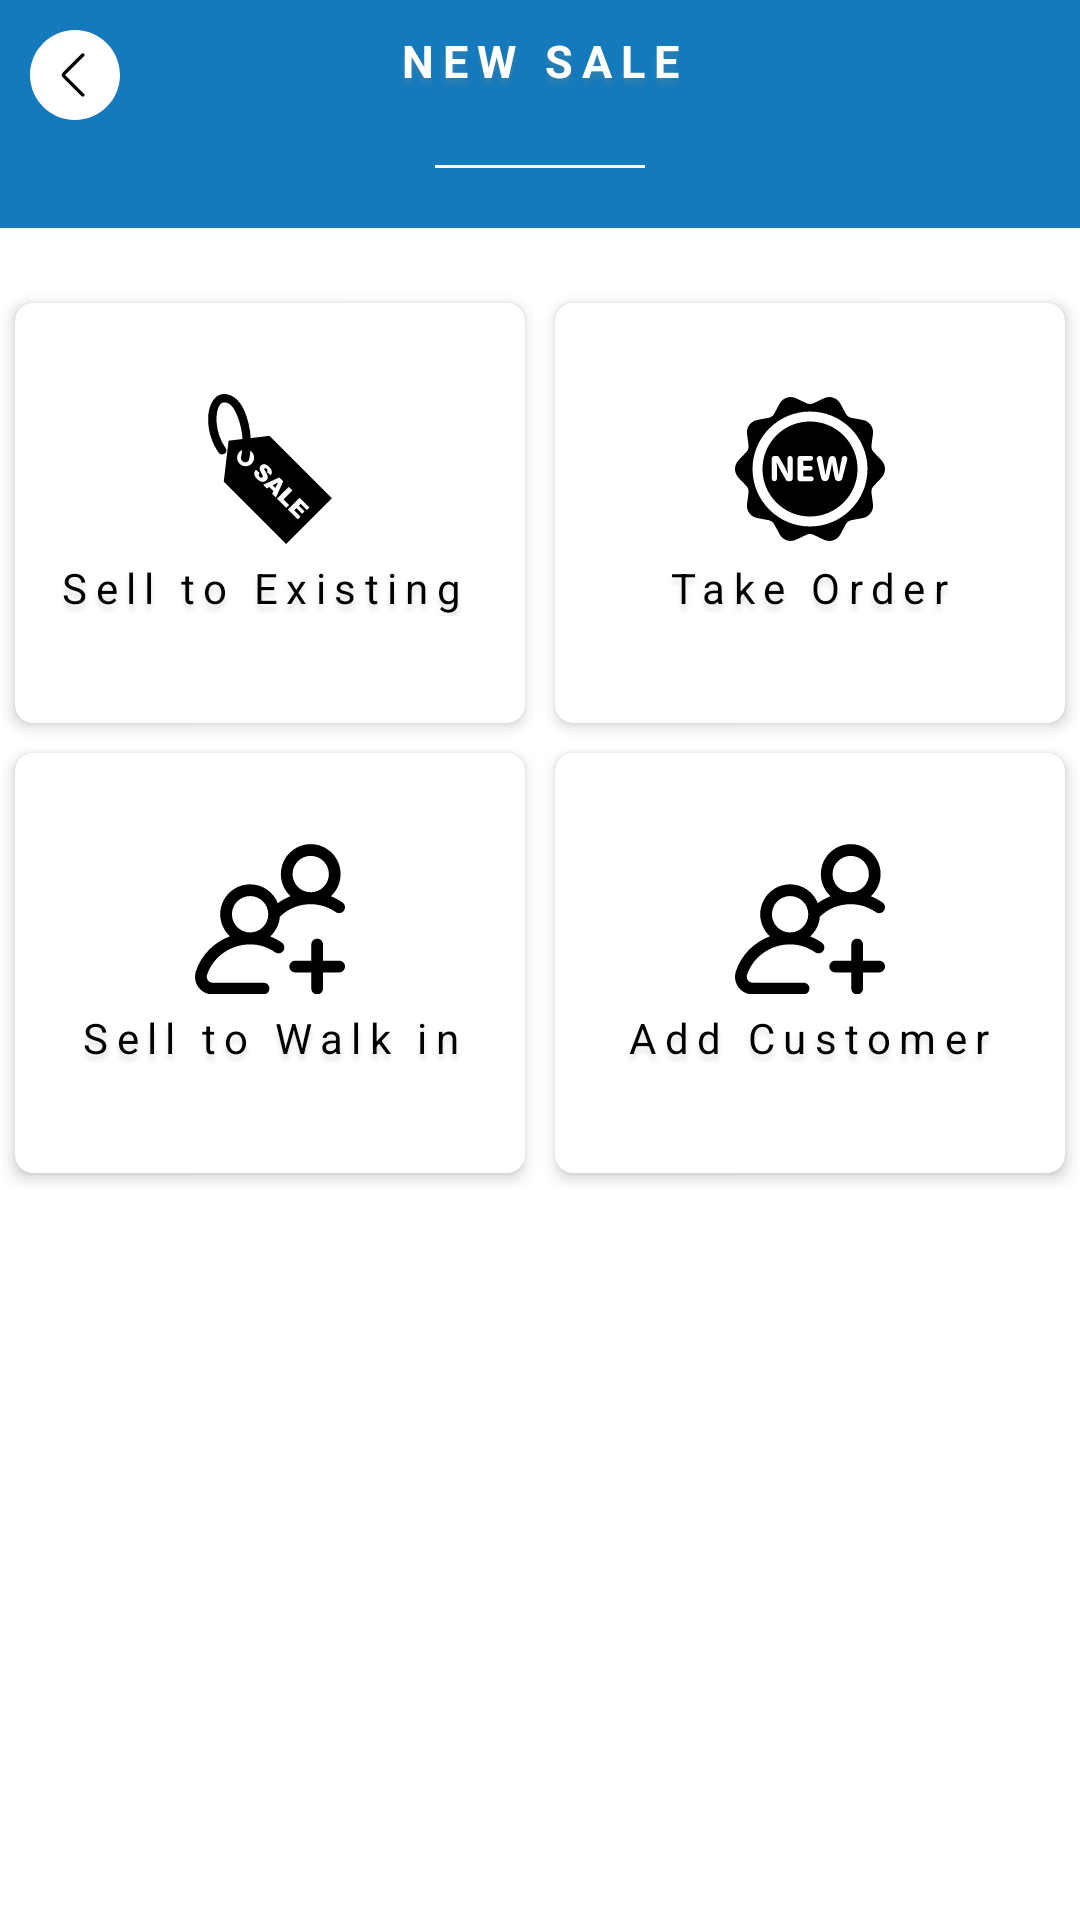

Locate icon controls on the screen. Image size 1080 × 1920, boxes as BBox(x1, y1, x2, y2).
add group: BBox(195, 844, 345, 994), BBox(735, 844, 885, 994)
badge: BBox(735, 397, 885, 541)
left arrow: BBox(30, 30, 120, 120)
